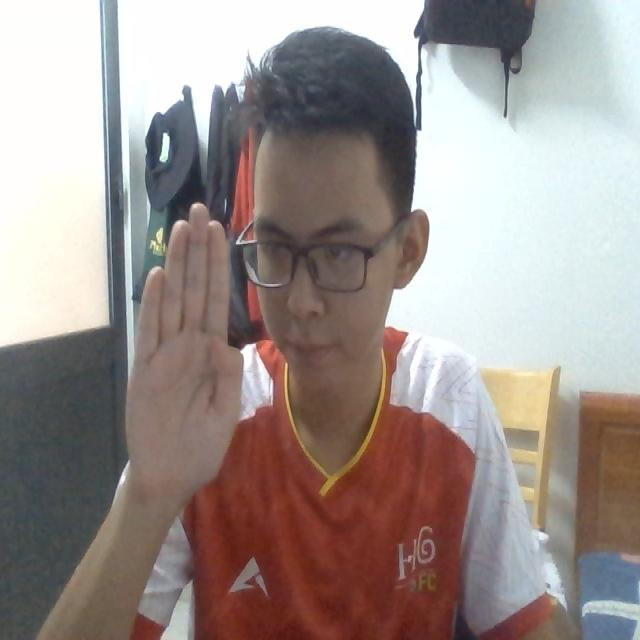B: (122, 195, 248, 526)
